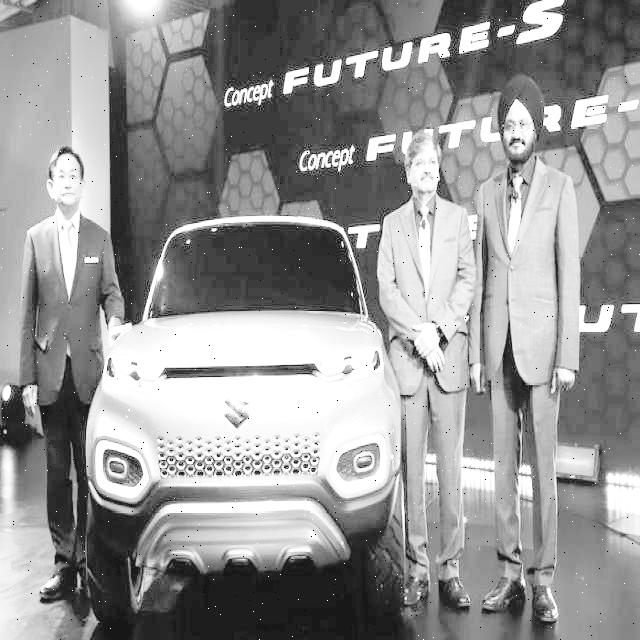Car: (83, 206, 410, 600)
